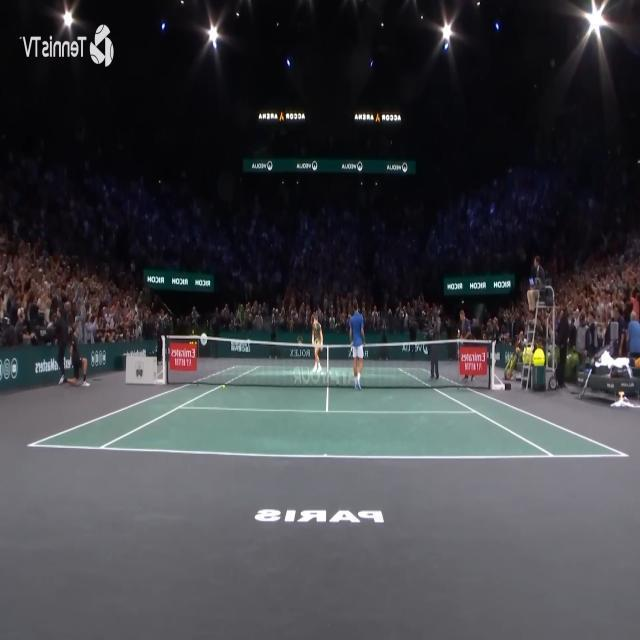court: (25, 364, 631, 461)
net: (160, 333, 496, 391)
player: (348, 302, 366, 392), (312, 314, 324, 374)
